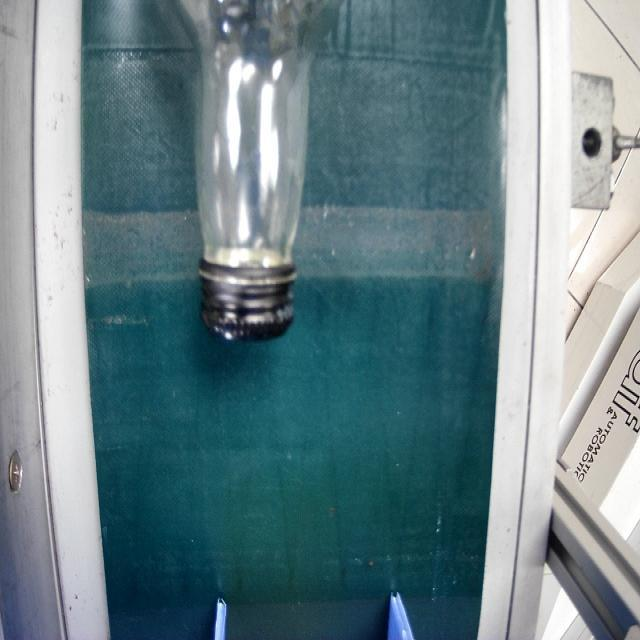Glass: (177, 0, 336, 353)
